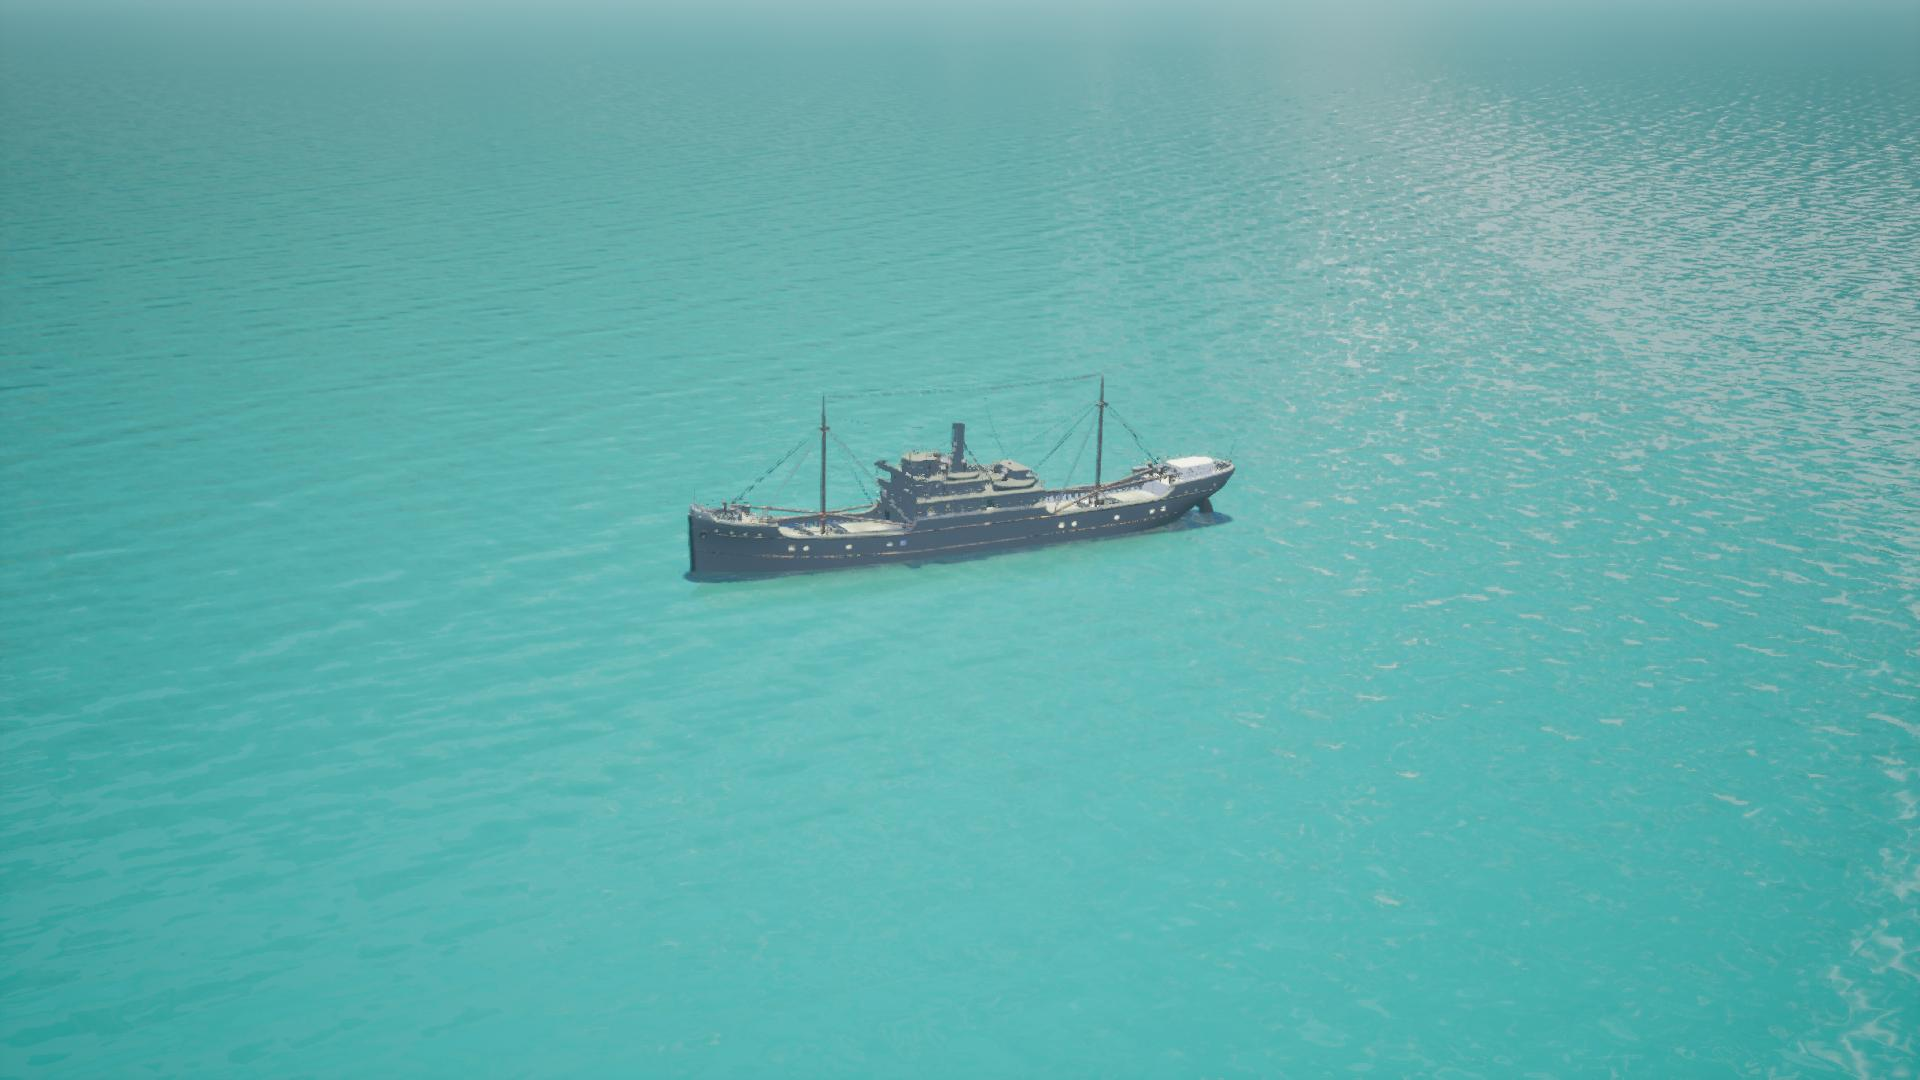Fishing Boat: (684, 382, 1240, 583)
